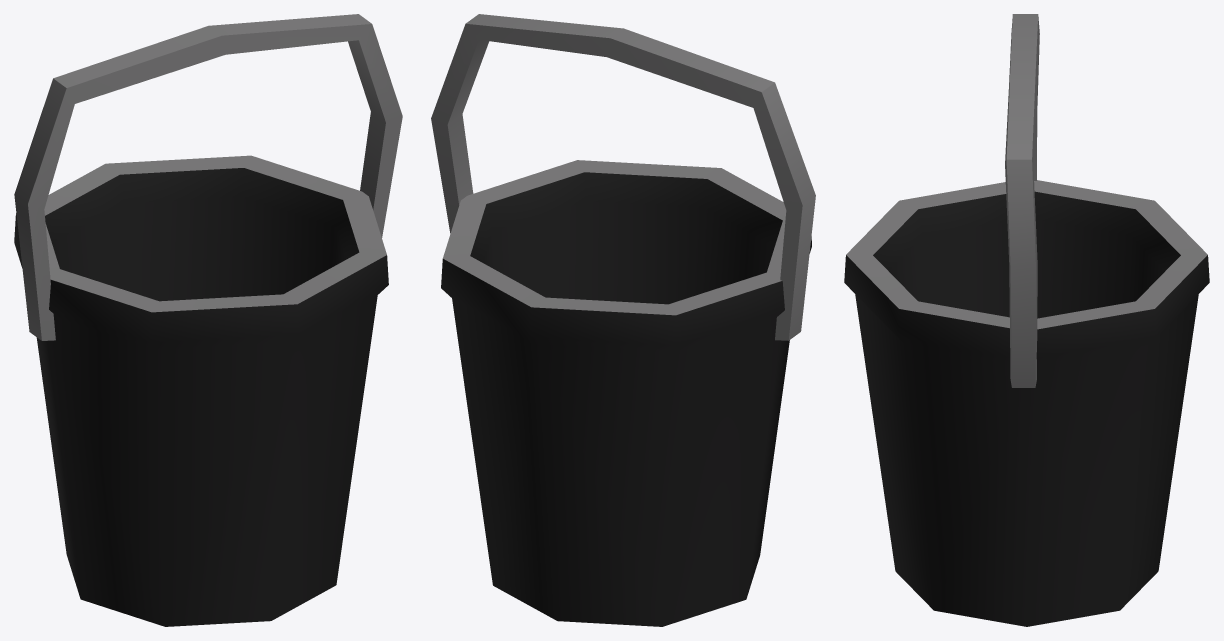
The model's file is SM_Prop_Bucket_01.obj.
3 views of the same model, side by side, from view 1: azimuth 30°, elevation 25°; view 2: azimuth 150°, elevation 25°; view 3: azimuth 270°, elevation 25° (orthographic). The views are drawn at different scales.
Visible parts, largest first — view 1: SM_Prop_Bucket_01_Mat_SwatchOverlay_Airship; view 2: SM_Prop_Bucket_01_Mat_SwatchOverlay_Airship; view 3: SM_Prop_Bucket_01_Mat_SwatchOverlay_Airship.
Boxes of the visible parts, bbox=[...] form: SM_Prop_Bucket_01_Mat_SwatchOverlay_Airship: bbox=[14, 14, 402, 626]; SM_Prop_Bucket_01_Mat_SwatchOverlay_Airship: bbox=[431, 14, 815, 626]; SM_Prop_Bucket_01_Mat_SwatchOverlay_Airship: bbox=[844, 14, 1209, 626].
Bounding box in the file's own units: 0.393 × 0.5385 × 0.352.
1 material, 1 textured.
